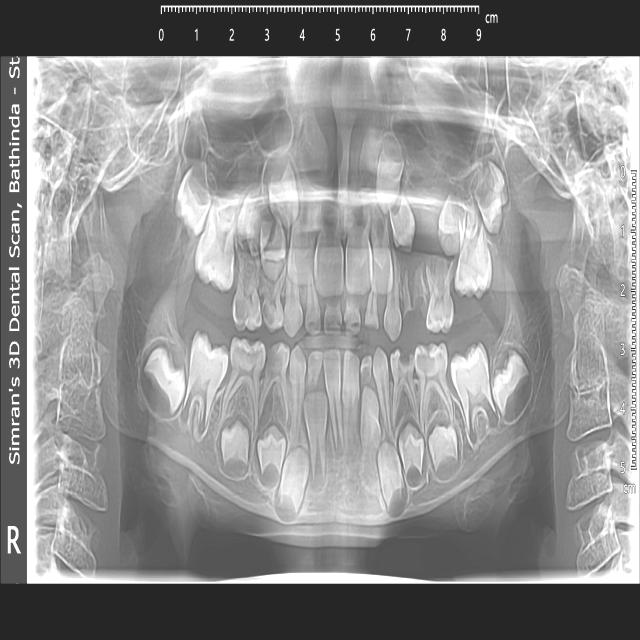Caries: (417, 350, 446, 379), (266, 344, 289, 376), (392, 350, 411, 374)
Root Piece: (405, 263, 428, 319)
